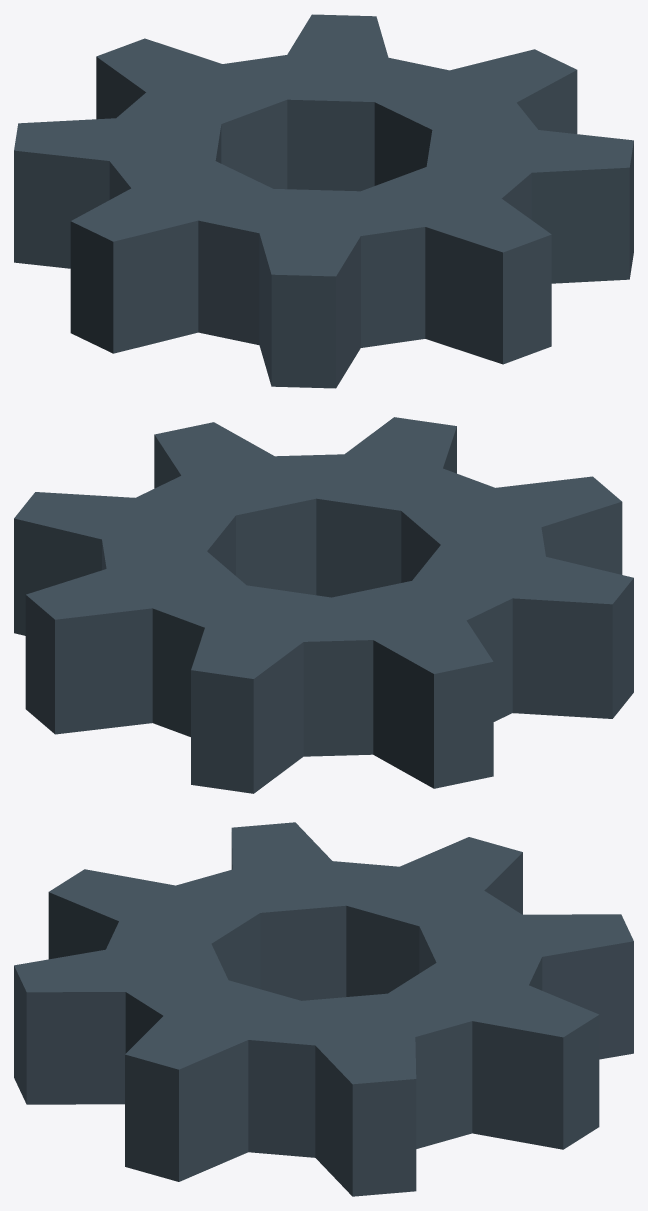
File: steel-gear.glb
The picture shows the model from 3 angles, top to bottom: view 1: azimuth 30°, elevation 25°; view 2: azimuth 150°, elevation 25°; view 3: azimuth 270°, elevation 25°; orthographic projection. The views are drawn at different scales.
Visible parts, largest first — view 1: Cylinder.021; view 2: Cylinder.021; view 3: Cylinder.021.
Part boxes in pixels (x1,y1,x2,y2): Cylinder.021: [14, 14, 633, 388]; Cylinder.021: [14, 417, 633, 793]; Cylinder.021: [14, 822, 633, 1196].
Size of the model in its own units: 5 by 1 by 5.
